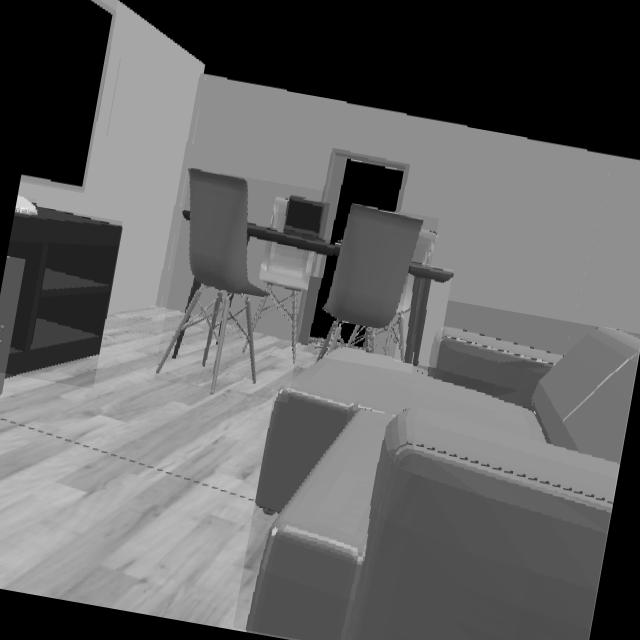bookshelf: (6, 208, 121, 374)
chair: (156, 169, 313, 390), (321, 205, 435, 357), (270, 199, 288, 230)
laptop: (285, 199, 326, 240)
monitor: (20, 0, 115, 190), (15, 196, 34, 214)
sofa: (248, 328, 640, 640)
table: (405, 264, 452, 365), (247, 225, 340, 258)
